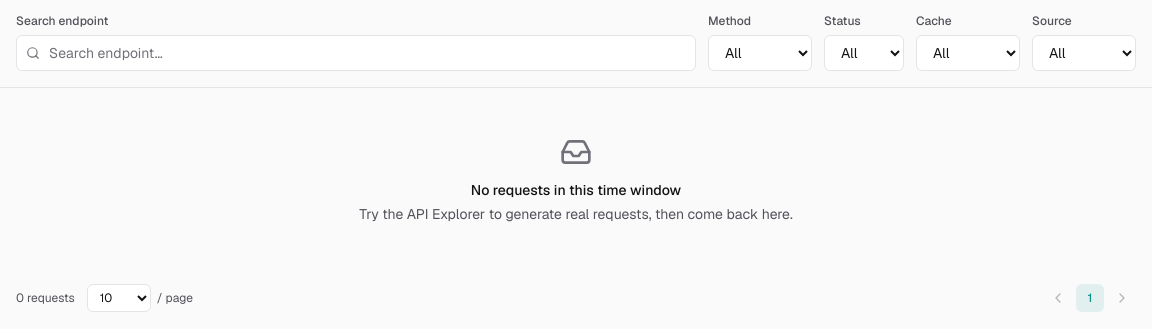
Test: RecentRequestsPanel › shows a filter-specific empty state once a filter is applied and matches nothing
This screenshot has width=1152, height=329.
Expected: the text "No requests in this time window" is shown, [471,181,681,199]
Select "Postgres" in the dropdown labelled "Source" at (1084, 53), box [1032,35,1136,71]
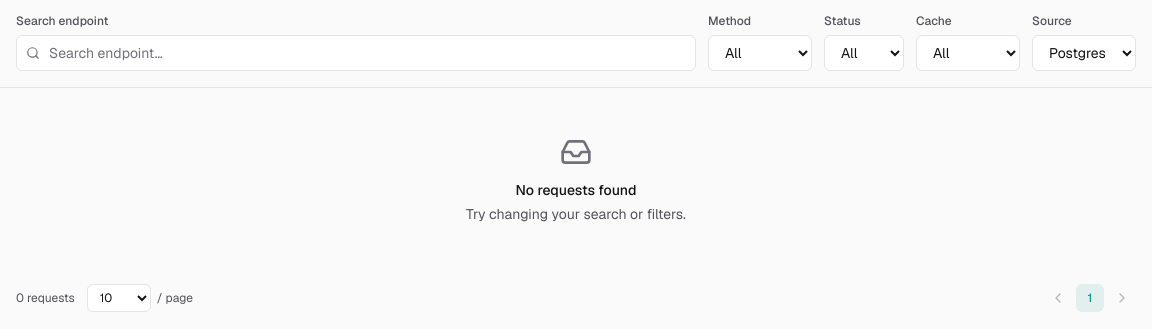
Result: the text "No requests found" is shown at [516,181,636,199]
Result: the text "Try changing your search or filters." is shown at [466,204,686,224]
